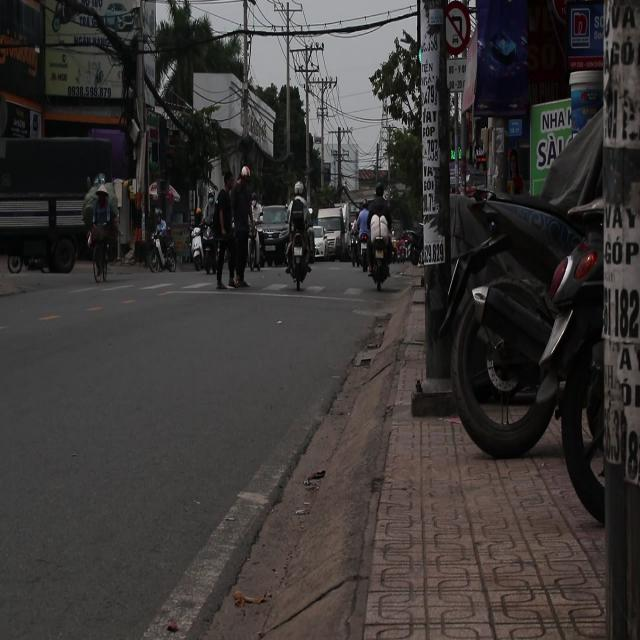car: (255, 206, 289, 266)
motorbike: (359, 206, 394, 299), (138, 220, 176, 284), (288, 205, 314, 298), (188, 209, 214, 286)
truck: (0, 129, 123, 295), (311, 206, 349, 262)
